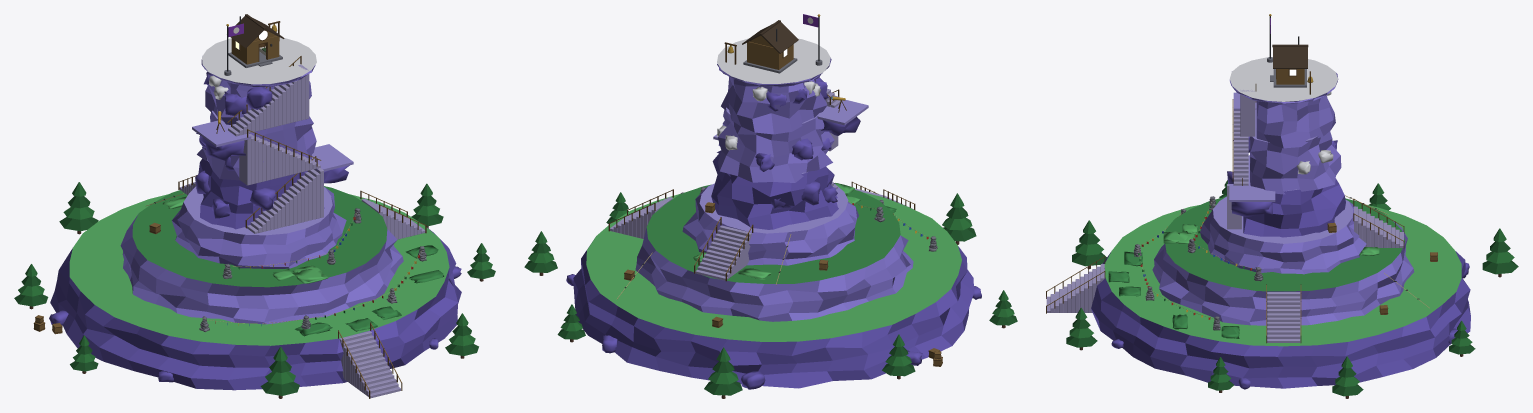
The model's file is tf-peak-p1.glb.
The picture shows the model from 3 angles, left to right: view 1: azimuth 30°, elevation 25°; view 2: azimuth 150°, elevation 25°; view 3: azimuth 270°, elevation 25°; orthographic projection. The views are drawn at different scales.
Parts seen in each view (by area): view 1: tf-peak-p1; view 2: tf-peak-p1; view 3: tf-peak-p1.
Boxes of the visible parts, x1=… form: tf-peak-p1: x1=14, y1=14, x2=495, y2=398; tf-peak-p1: x1=524, y1=14, x2=1017, y2=398; tf-peak-p1: x1=1046, y1=14, x2=1518, y2=398.
Size of the model in its own units: 56.08 by 36.65 by 56.61.
